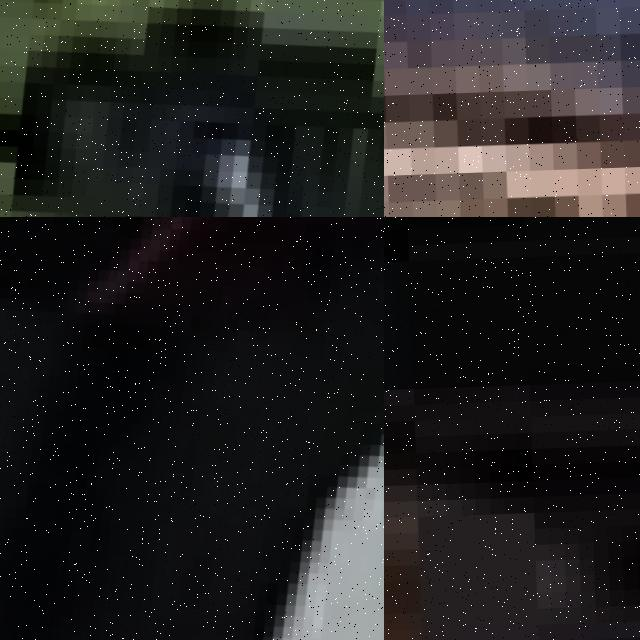0: (0, 0, 384, 217)
drone: (0, 217, 384, 640)
